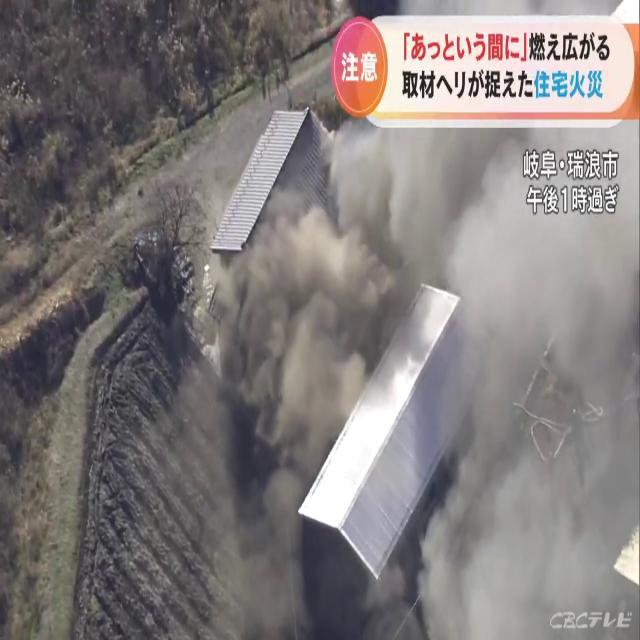Smoke: (192, 118, 640, 624), (384, 117, 640, 629)
